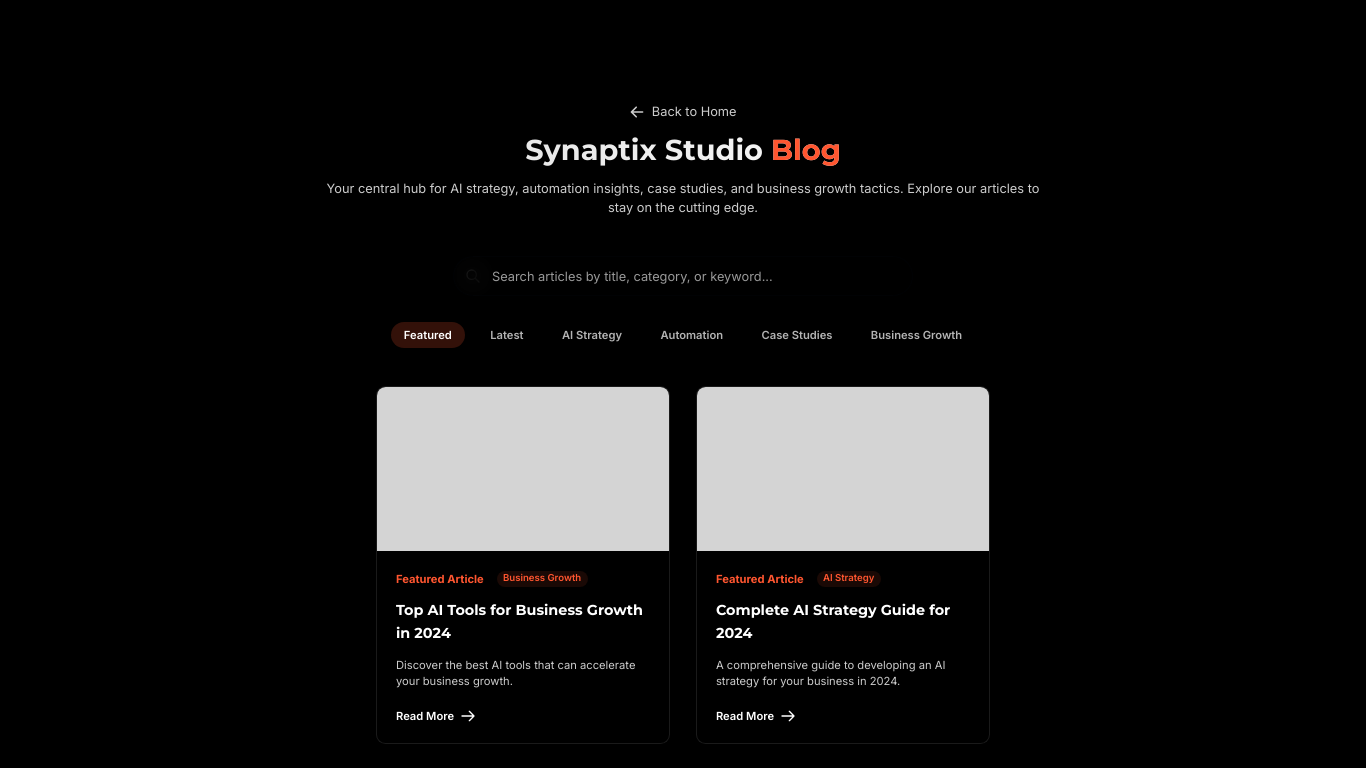
Scenario: BlogPage Component › combines category filter with search query
# First filter by AI Strategy category
Click the button "AI Strategy": (592, 335) [549,322,635,348]
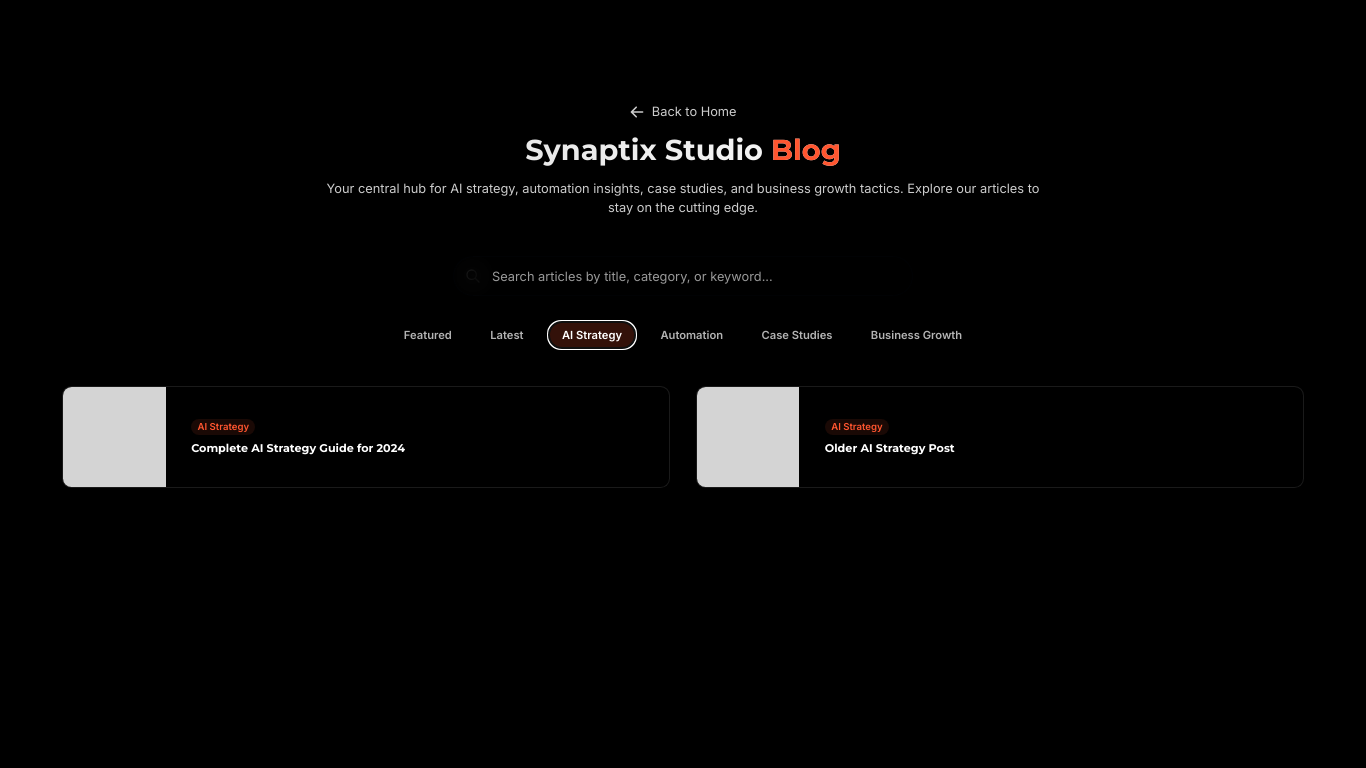
# Then search within that category
In the field with placeholder "Search articles by title, category, or keyword...": (683, 276) [453,256,913,296], type "2024"
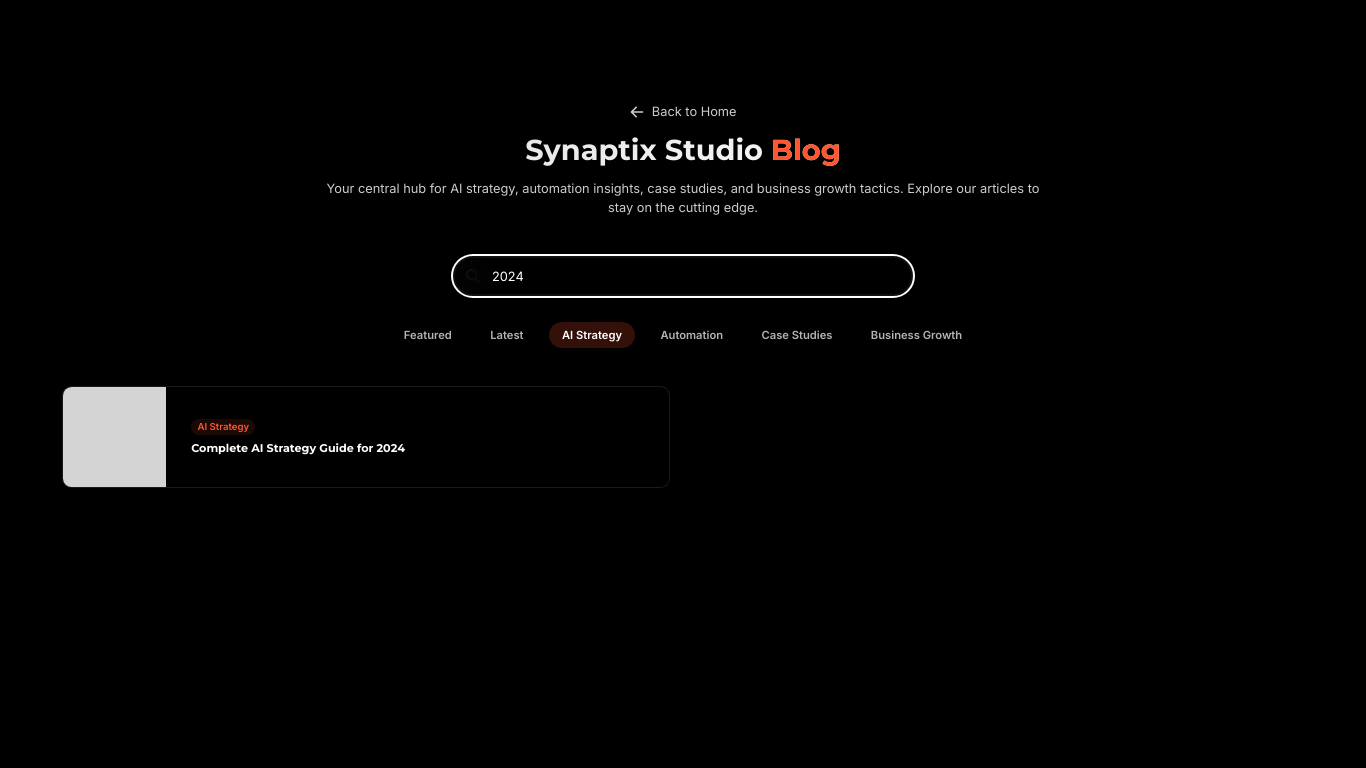
expect the heading "Complete AI Strategy Guide for 2024" is shown: met, box [191,441,405,455]
expect the button "Older AI Strategy Post" is gone: met
